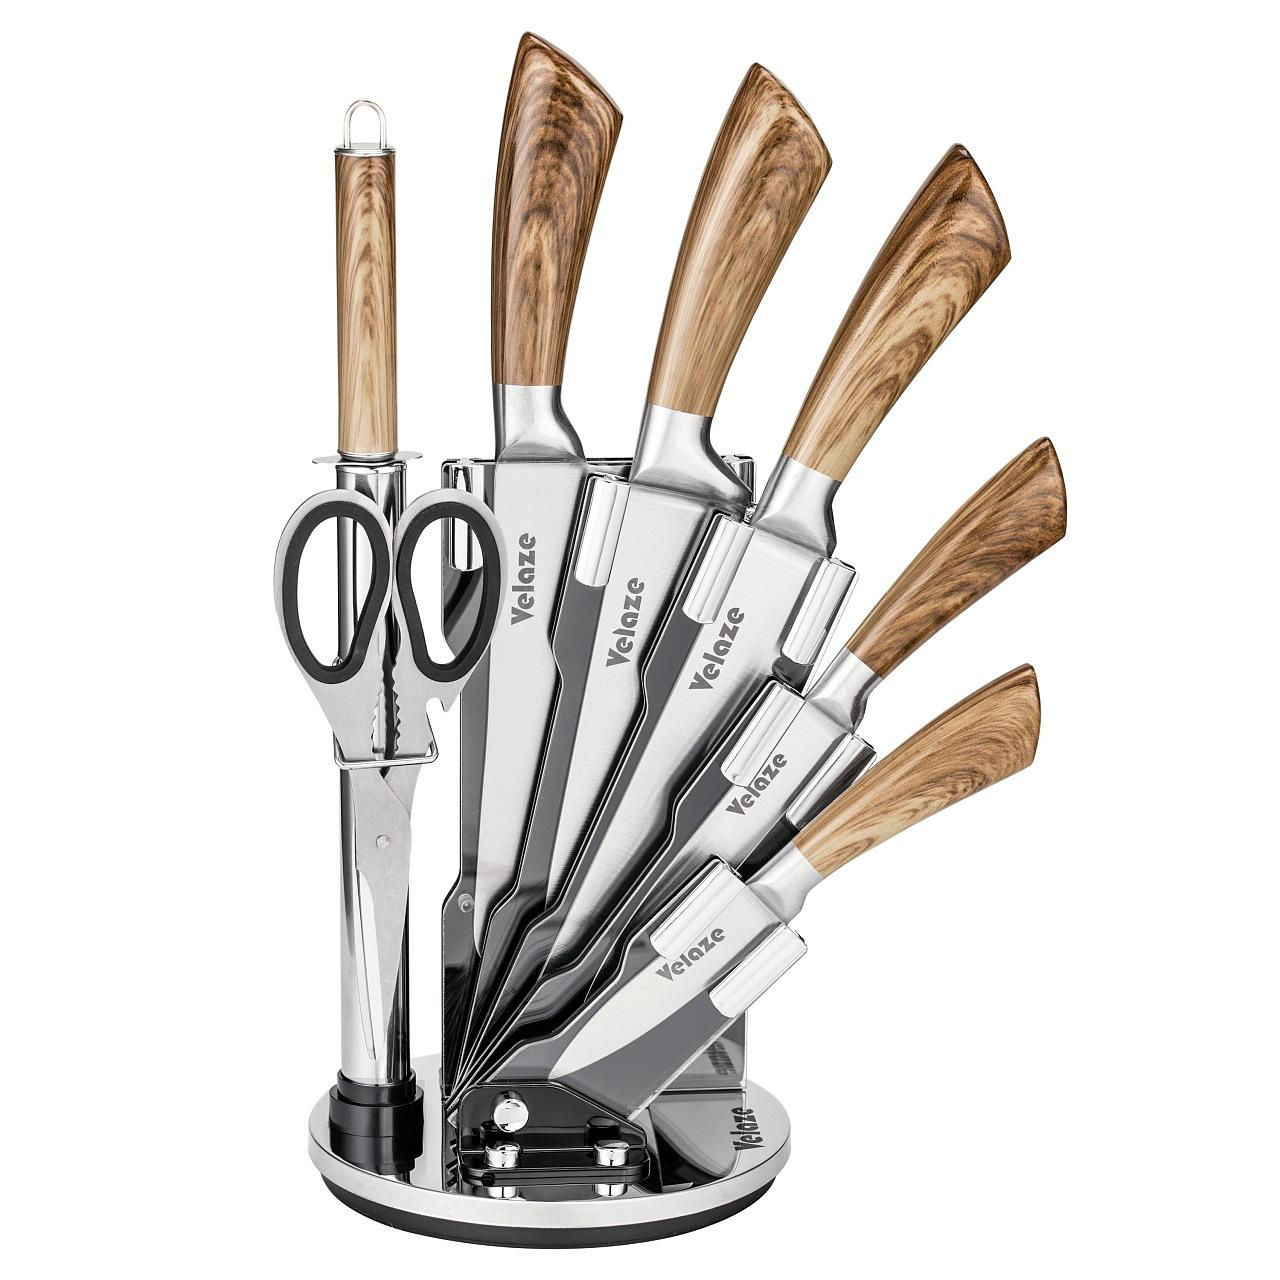knife: (478, 18, 1080, 1118)
